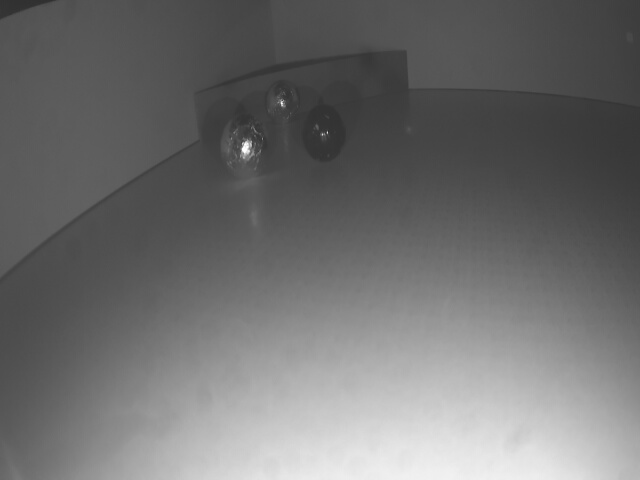Dead: (304, 108, 345, 162)
Live: (218, 111, 268, 182), (264, 81, 300, 124)
Red: (195, 50, 408, 143)
